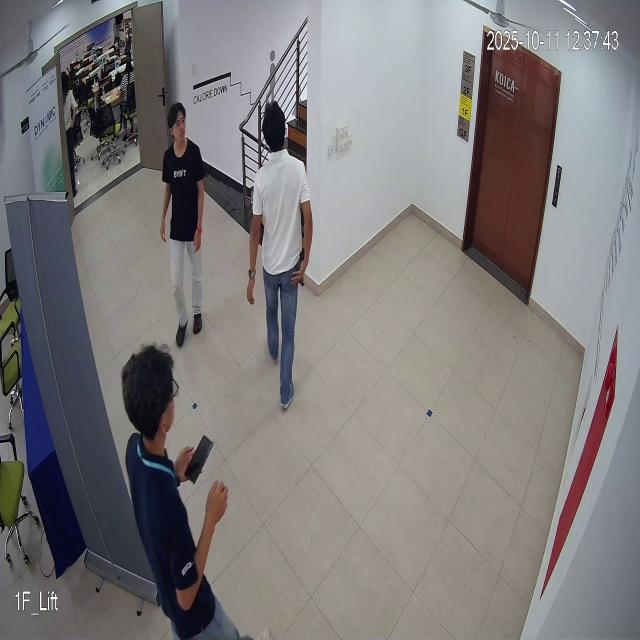face: (166, 102, 192, 150)
